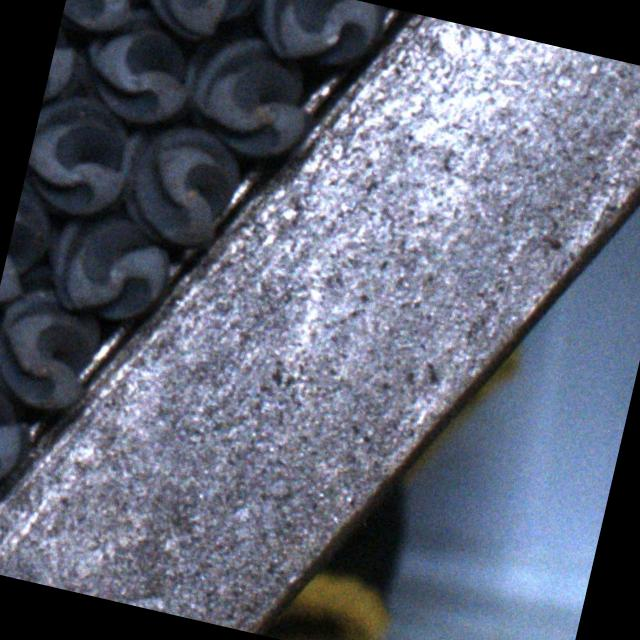tool_b: (169, 25, 322, 166), (104, 113, 245, 254), (0, 253, 113, 416), (42, 204, 179, 332), (69, 0, 201, 129), (19, 90, 142, 224), (248, 0, 380, 76), (0, 171, 64, 312), (130, 0, 270, 50), (39, 0, 93, 121), (0, 363, 35, 491), (61, 0, 156, 37)
